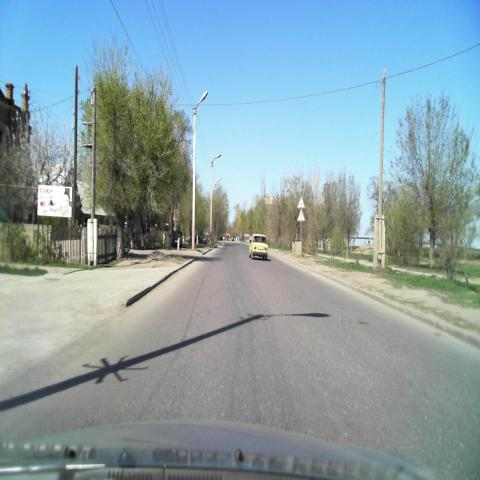1_12_2: (297, 196, 306, 209)
1_22: (297, 210, 305, 222)
